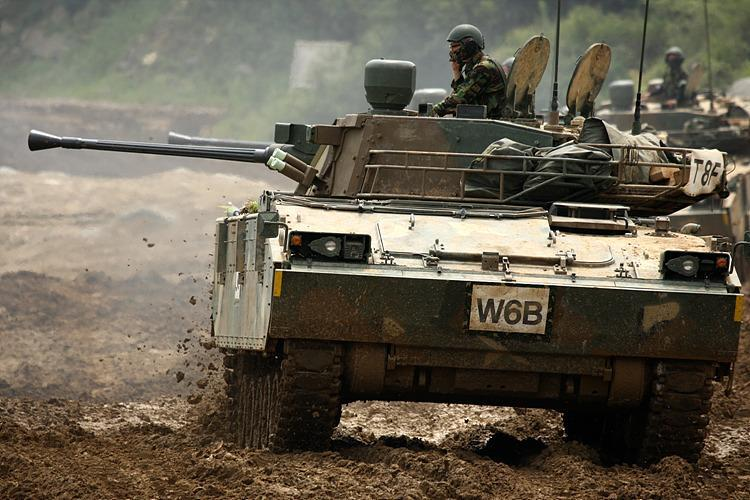MIL_IFV: (208, 41, 742, 460)
